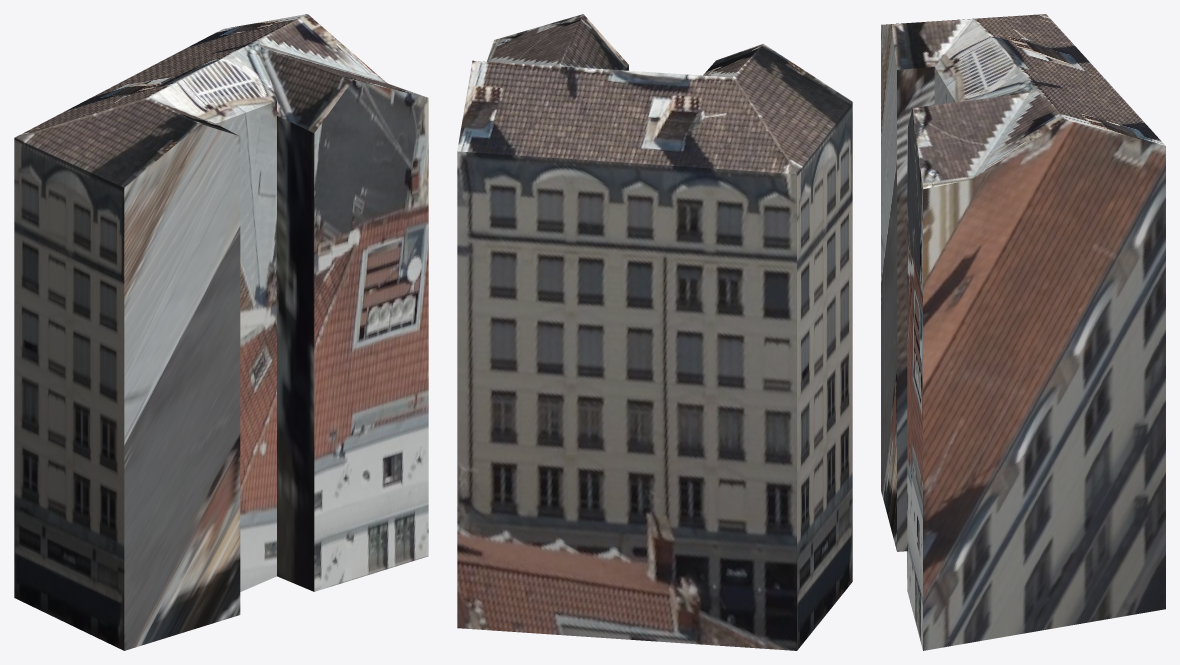
3 views of the same model, side by side, from view 1: azimuth 30°, elevation 25°; view 2: azimuth 150°, elevation 25°; view 3: azimuth 270°, elevation 25° (orthographic). The views are drawn at different scales.
Parts seen in each view (by area): view 1: Z_UP; view 2: Z_UP; view 3: Z_UP.
Boxes of the visible parts, x1,y1,x2,y2 form: Z_UP: [14, 14, 428, 650]; Z_UP: [457, 14, 852, 650]; Z_UP: [881, 14, 1165, 650].
Size of the model in its own units: 19.46 by 26.47 by 13.48.
2 materials, 1 textured.
